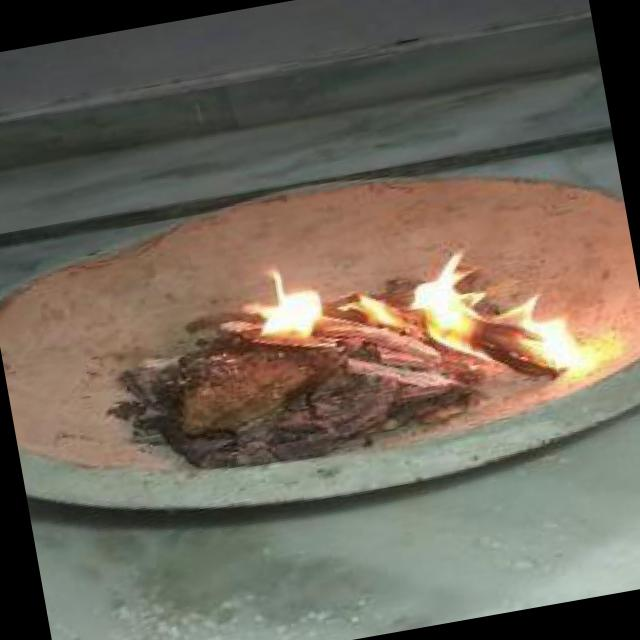fire: (230, 219, 570, 421)
